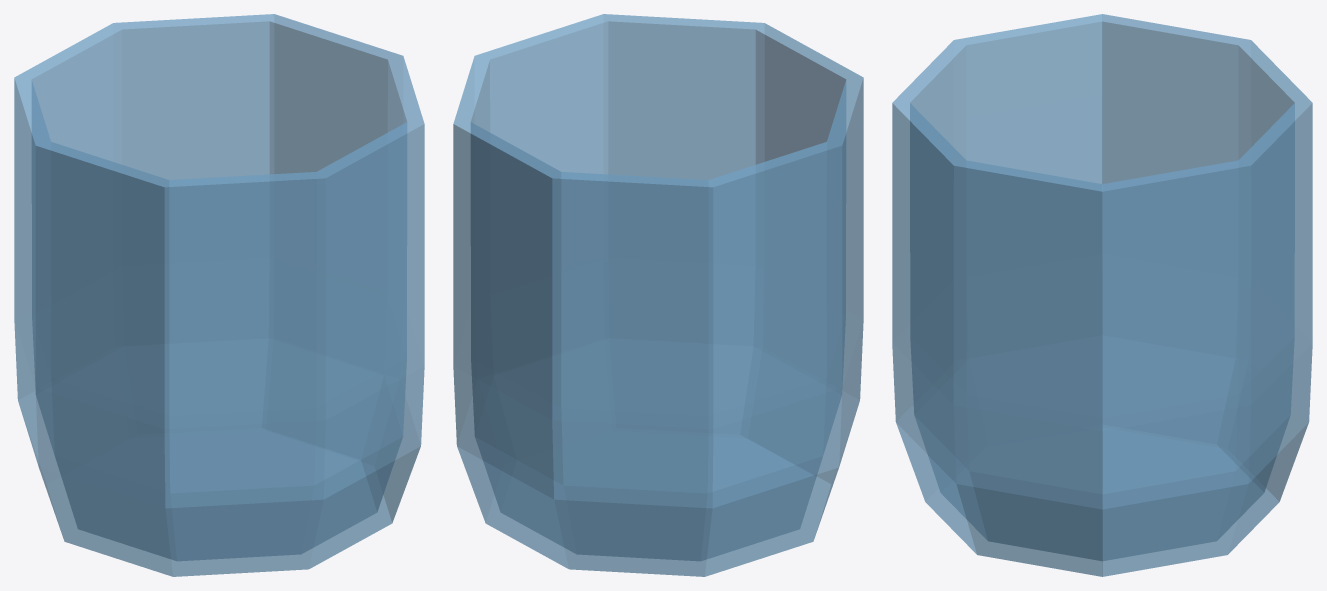
The model's file is tarro base 1.fbx.
3 renders of one model, left to right at view 1: azimuth 30°, elevation 25°; view 2: azimuth 150°, elevation 25°; view 3: azimuth 270°, elevation 25°, orthographic.
Parts seen in each view (by area): view 1: tarro base; view 2: tarro base; view 3: tarro base.
Boxes of the visible parts, box(x1,y1,x2,y2) form: tarro base: box(14, 14, 424, 576); tarro base: box(453, 14, 863, 576); tarro base: box(892, 14, 1312, 576).
Size of the model in its own units: 23.87 by 23.87 by 25.
